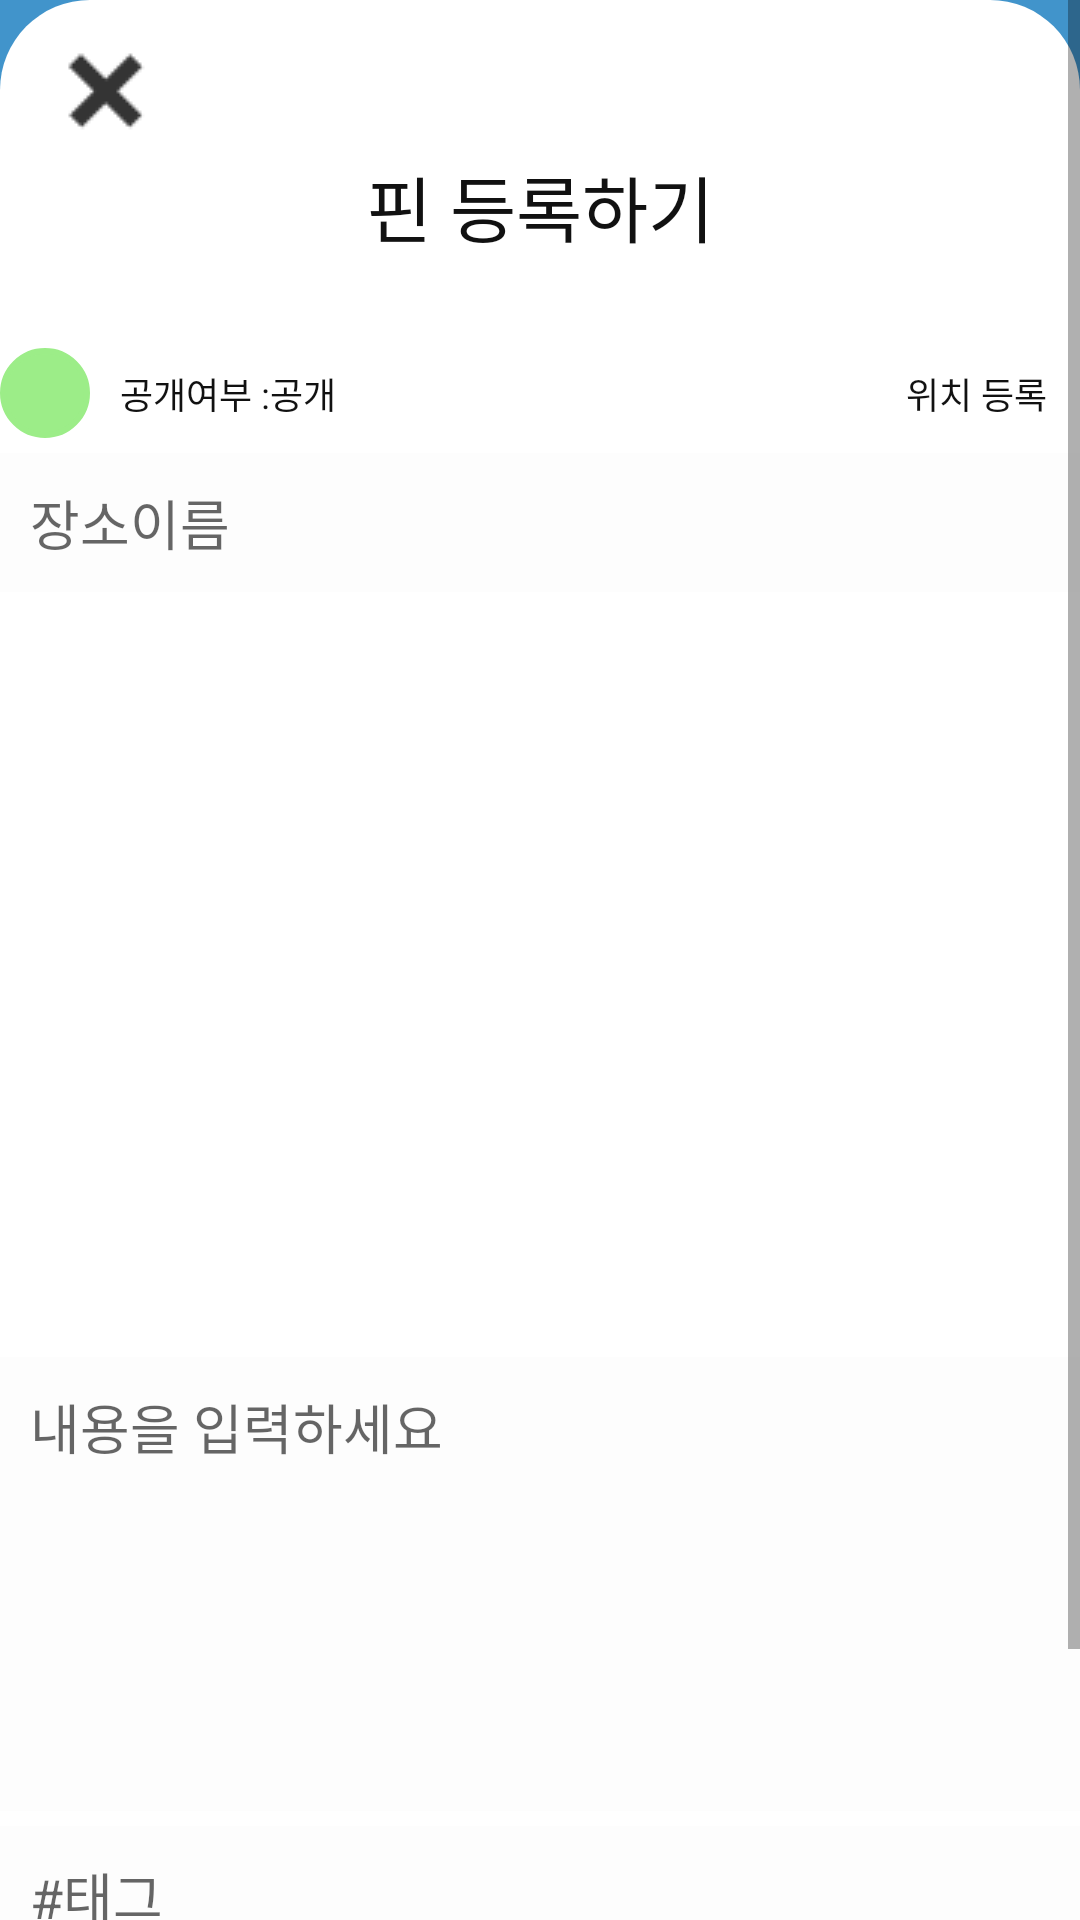

Screen size 1080px x 1920px. Icon name, then its center in pixels as (x,y):
cancel: (105,90)
